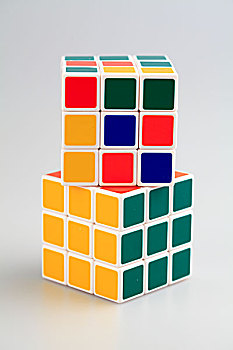cube: (40, 157, 195, 304), (60, 54, 178, 184)
